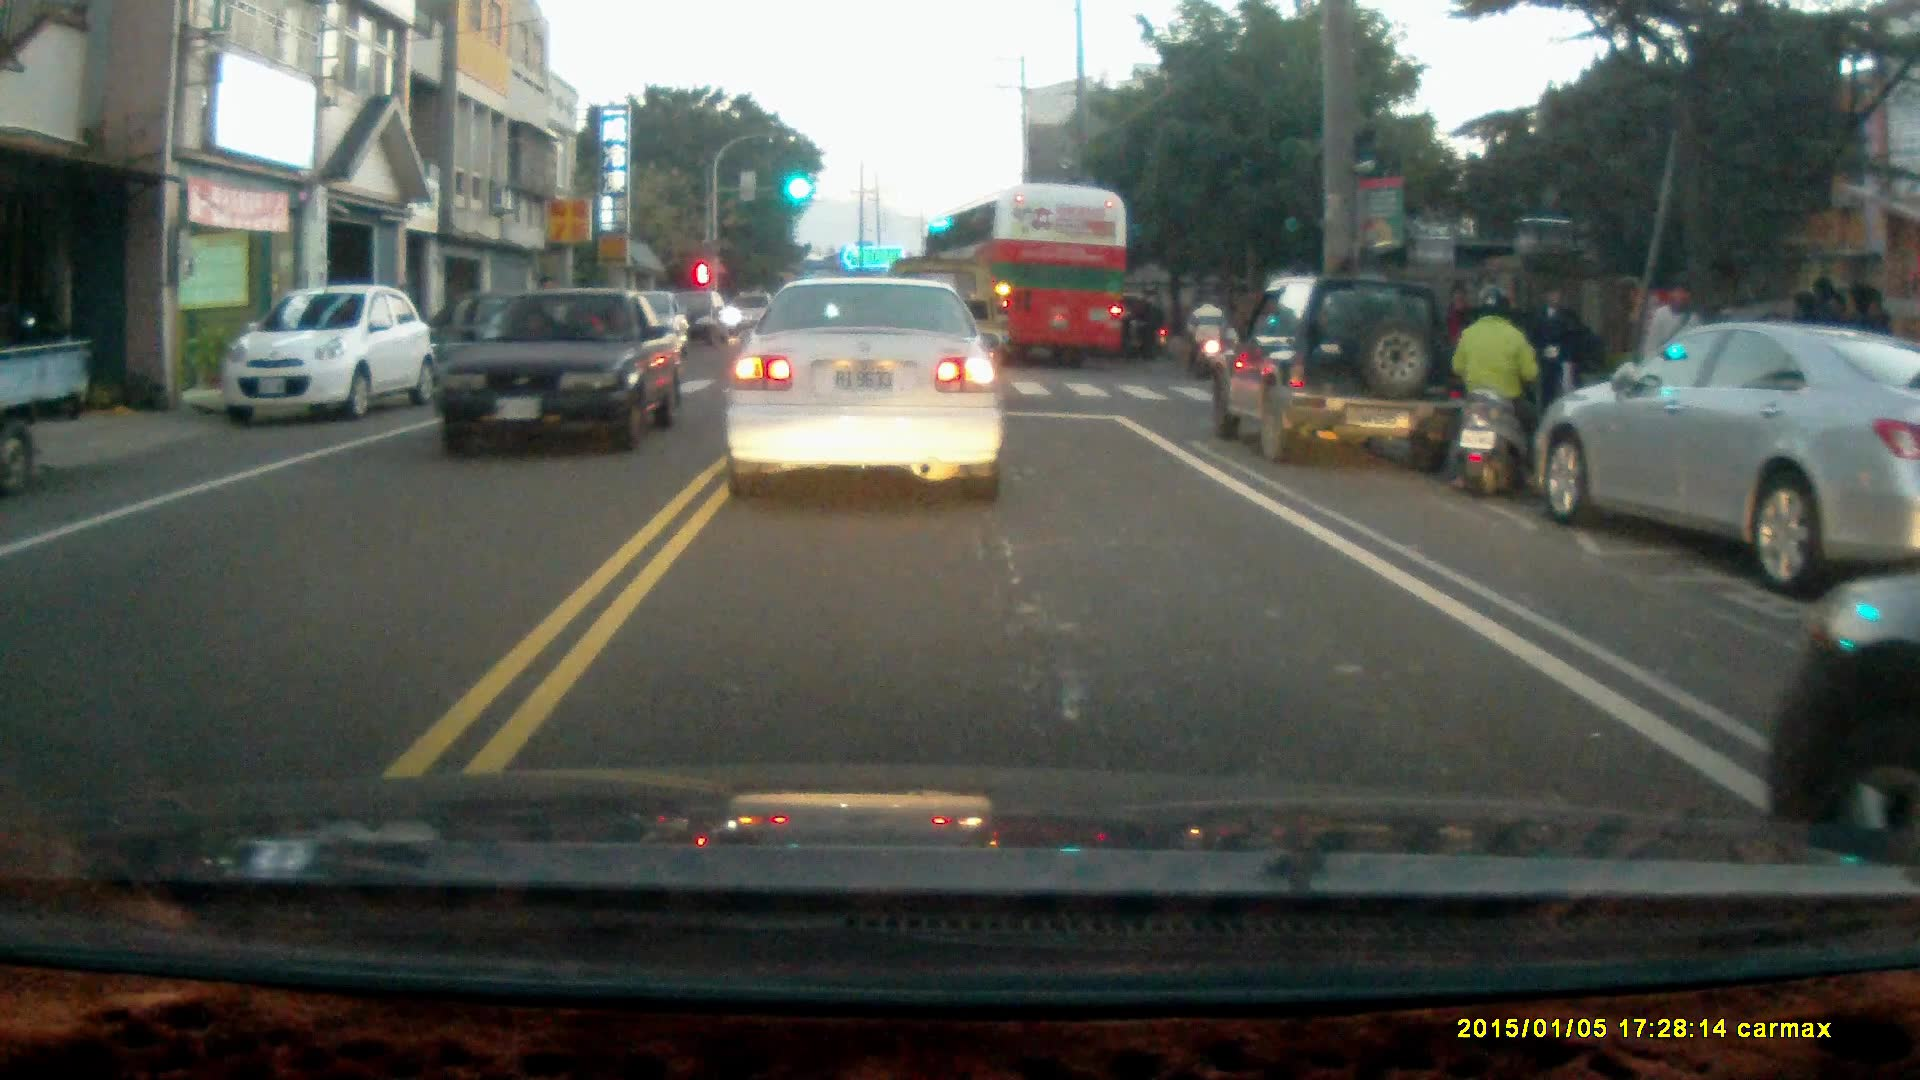pedestrian: (1634, 275, 1704, 426), (1528, 283, 1580, 431)
rider: (1447, 283, 1544, 504), (1111, 292, 1170, 362), (1184, 290, 1225, 375)
vehicle: (1539, 323, 1920, 598), (721, 270, 1010, 505), (1203, 275, 1467, 469), (433, 286, 686, 458), (1766, 585, 1920, 857), (922, 188, 1136, 377), (221, 283, 427, 421), (1, 308, 96, 491)
